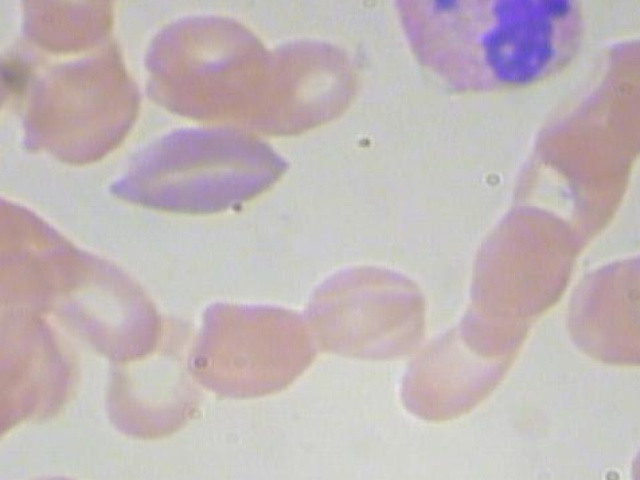RBC: (101, 121, 304, 223), (20, 40, 158, 169), (93, 308, 225, 439), (501, 121, 638, 243), (449, 201, 581, 320), (228, 32, 364, 134), (391, 320, 526, 422), (298, 260, 433, 361), (137, 7, 272, 108), (184, 297, 312, 397), (0, 462, 130, 480), (0, 175, 23, 275), (0, 351, 23, 450), (624, 429, 640, 480)
WBC: (394, 0, 592, 105)
